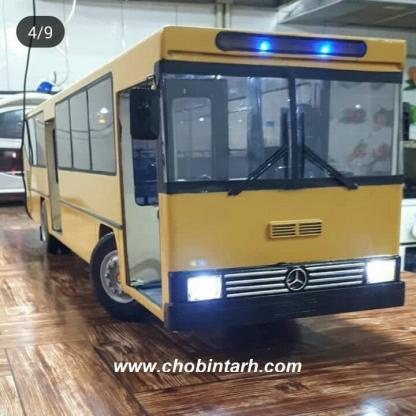Bus: (15, 21, 413, 347)
